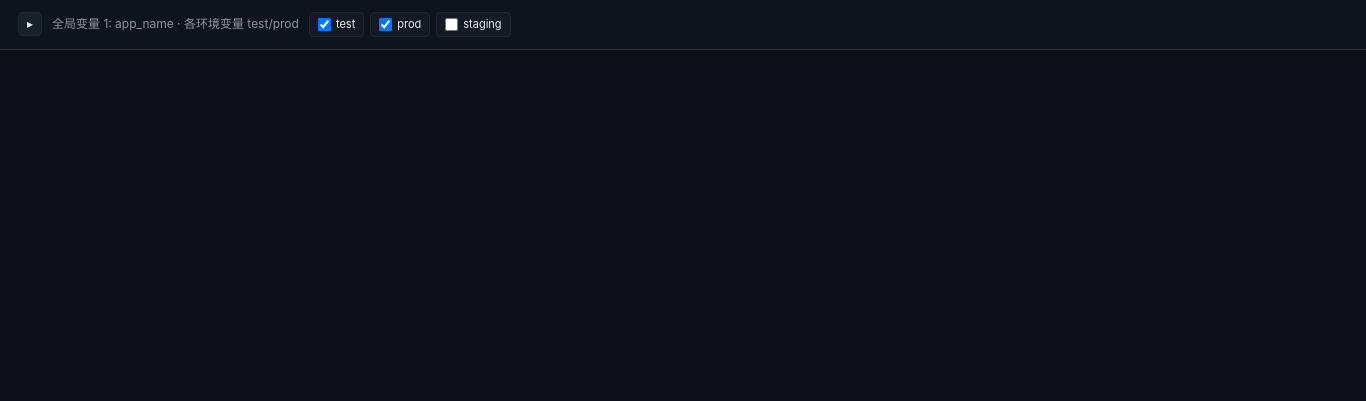
Scenario: PipelineEnvMatrix › shows copied feedback after variable name click
Click the button with test id "env-matrix-toggle". click: (30,24)
box: [18,12,42,36]
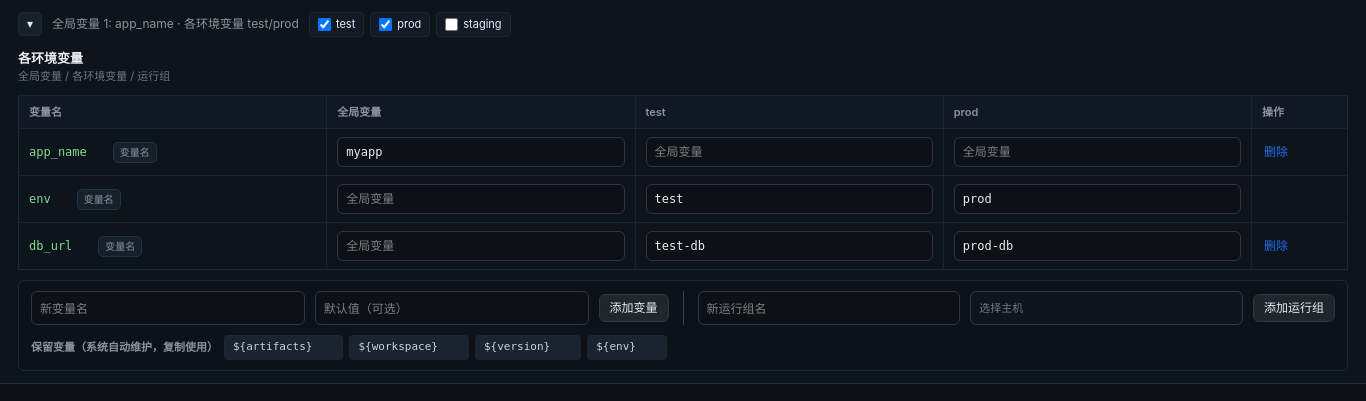
Click the button with test id "copy-var-app_name". click: (68,152)
box: [29,143,107,161]
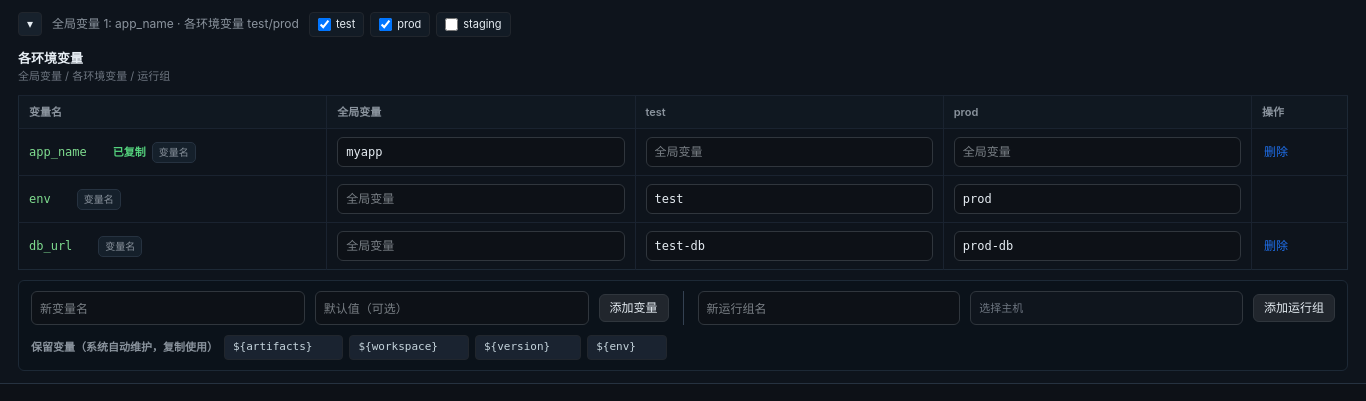
Expected: the text with test id "copy-var-app_name-feedback" reads "已复制", [113,145,146,159]
